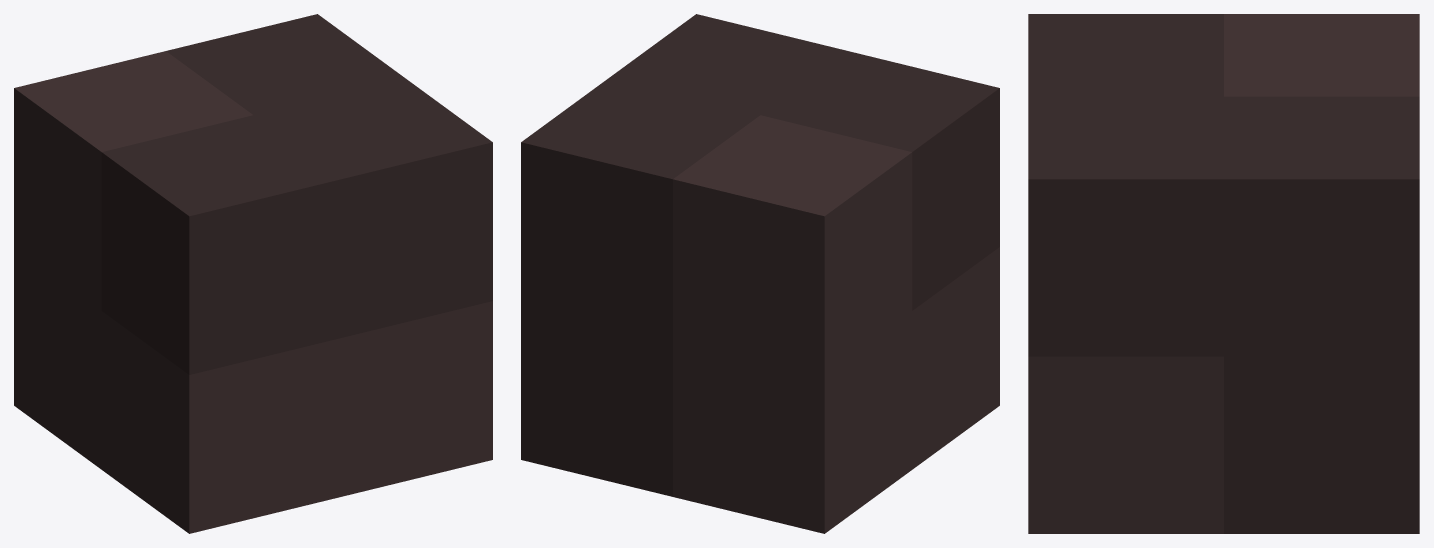
The model's file is ore.obj.
The picture shows the model from 3 angles, left to right: view 1: azimuth 30°, elevation 25°; view 2: azimuth 150°, elevation 25°; view 3: azimuth 270°, elevation 25°; orthographic projection. The views are drawn at different scales.
Visible parts, largest first — view 1: root; view 2: root; view 3: root.
Part boxes in pixels (<box>): root: <box>14,14,492,533</box>; root: <box>521,14,999,533</box>; root: <box>1028,14,1419,533</box>.
Bounding box in the file's own units: 0.2 × 0.2 × 0.2.
Materials: 1 (1 with a texture image).
